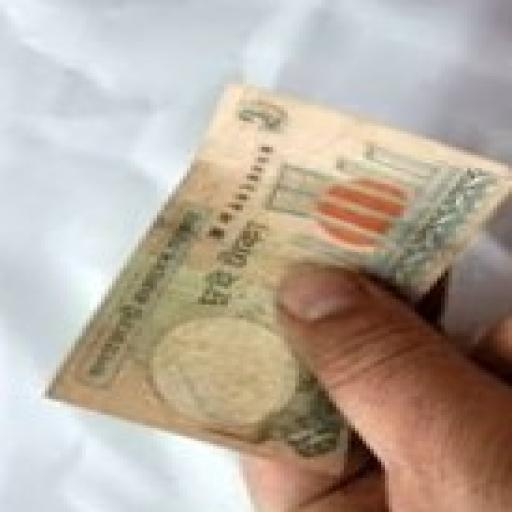2taka: (52, 89, 508, 470)
